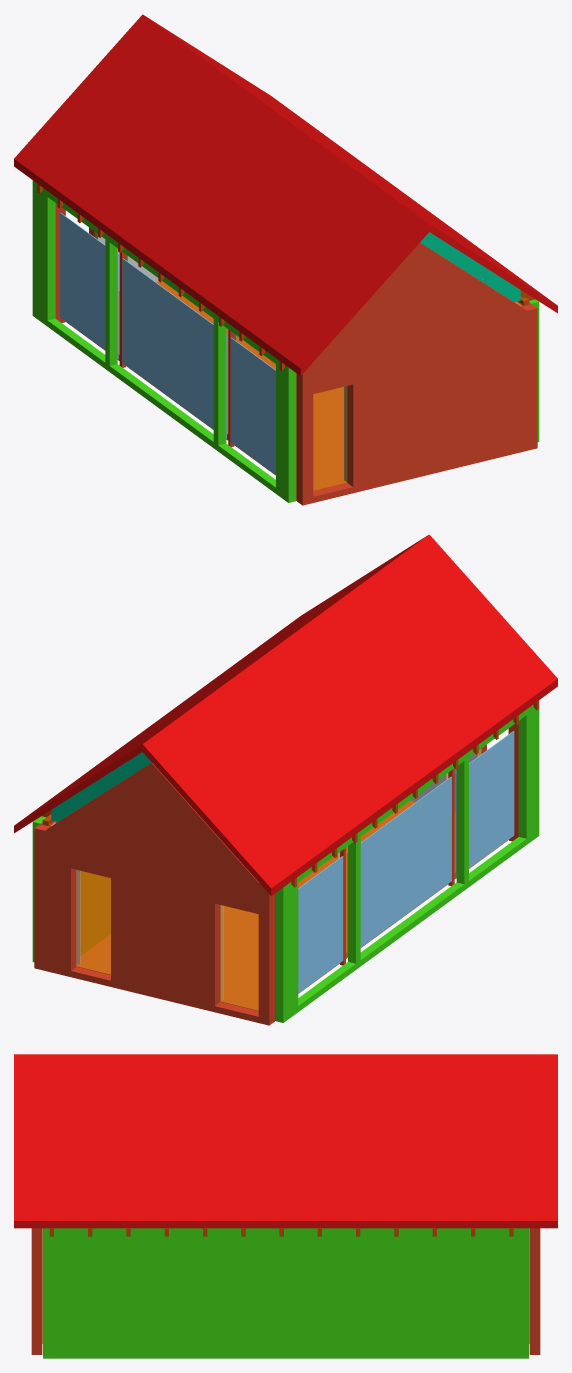
The model's file is obyvak.glb.
3 views of the same model, one above another, from view 1: azimuth 30°, elevation 25°; view 2: azimuth 150°, elevation 25°; view 3: azimuth 270°, elevation 25° (orthographic). The views are drawn at different scales.
Parts seen in each view (by area): view 1: roofing, masonry (×2), glazing (×3), eps, floor, plenum_wool; view 2: roofing, masonry (×2), glazing (×3), eps, floor, furniture, plenum_wool; view 3: roofing, eps, masonry (×2).
Part boxes in pixels (bbox=[...]): roofing: bbox=[14, 14, 557, 376]; masonry (×2): bbox=[55, 203, 537, 505]; glazing (×3): bbox=[60, 212, 275, 474]; eps: bbox=[32, 180, 296, 502]; floor: bbox=[65, 281, 346, 490]; plenum_wool: bbox=[420, 232, 520, 301]; roofing: bbox=[14, 534, 557, 896]; masonry (×2): bbox=[34, 724, 518, 1025]; glazing (×3): bbox=[298, 731, 514, 993]; eps: bbox=[275, 704, 539, 1022]; floor: bbox=[77, 801, 508, 1010]; furniture: bbox=[80, 871, 110, 955]; plenum_wool: bbox=[51, 752, 151, 821]; roofing: bbox=[14, 1054, 557, 1228]; eps: bbox=[43, 1228, 528, 1358]; masonry (×2): bbox=[31, 1228, 540, 1354].
Bounding box in the file's own units: 6.44 × 6.21 × 12.43.
